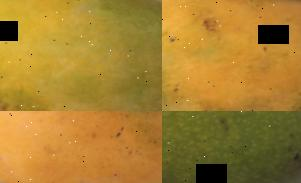PartiallyRipe: (0, 0, 162, 111)
Ripe: (162, 0, 301, 111), (0, 111, 162, 183)
Unripe: (162, 111, 301, 183)
